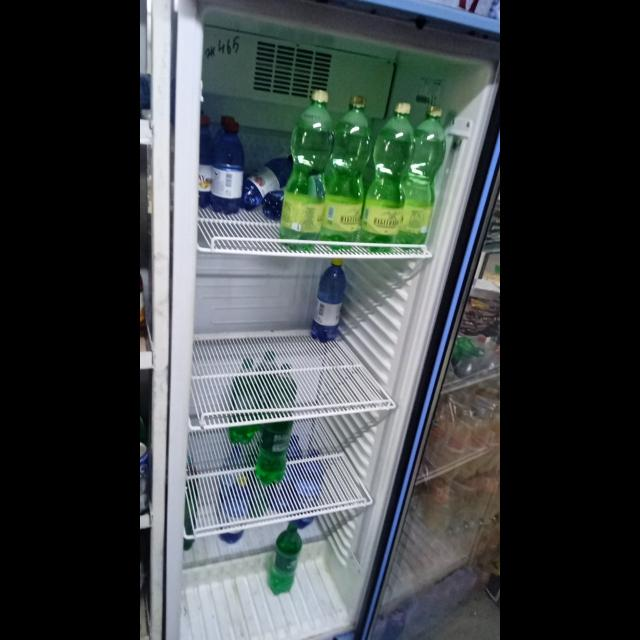Cooling-Display: (165, 1, 500, 640)
